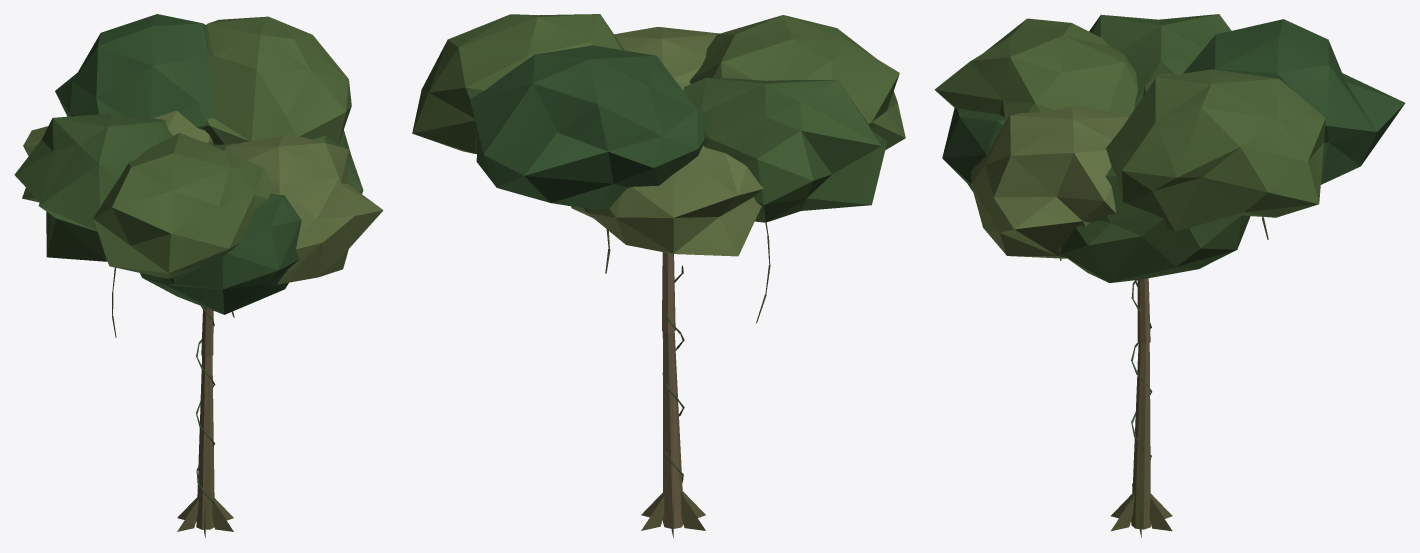
Rendered from jungle-canopy-vines.glb.
3 renders of one model, left to right at view 1: azimuth 30°, elevation 25°; view 2: azimuth 150°, elevation 25°; view 3: azimuth 270°, elevation 25°, orthographic. The views are drawn at different scales.
Visible parts, largest first — view 1: Дерево полога с лианами; view 2: Дерево полога с лианами; view 3: Дерево полога с лианами.
Part boxes in pixels (x1,y1,x2,y2): Дерево полога с лианами: (14,14,383,538); Дерево полога с лианами: (412,14,905,538); Дерево полога с лианами: (934,14,1405,537).
Size of the model in its own units: 22.43 by 28.7 by 24.86.
